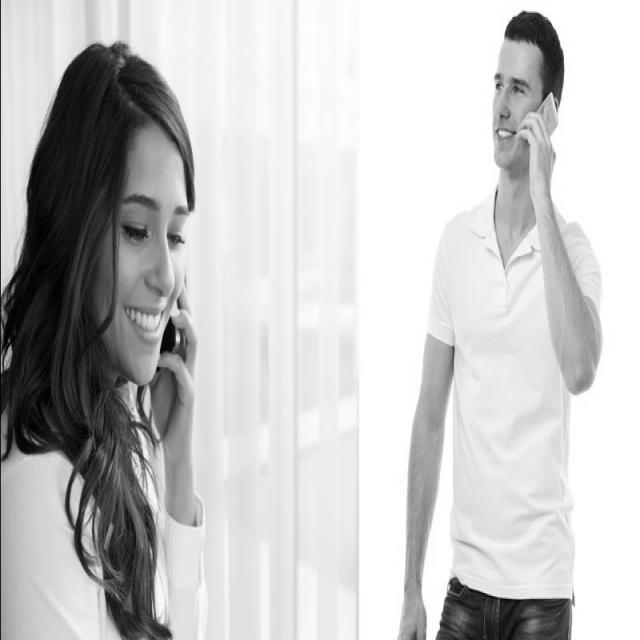phone: (137, 199, 219, 448), (504, 63, 566, 204)
